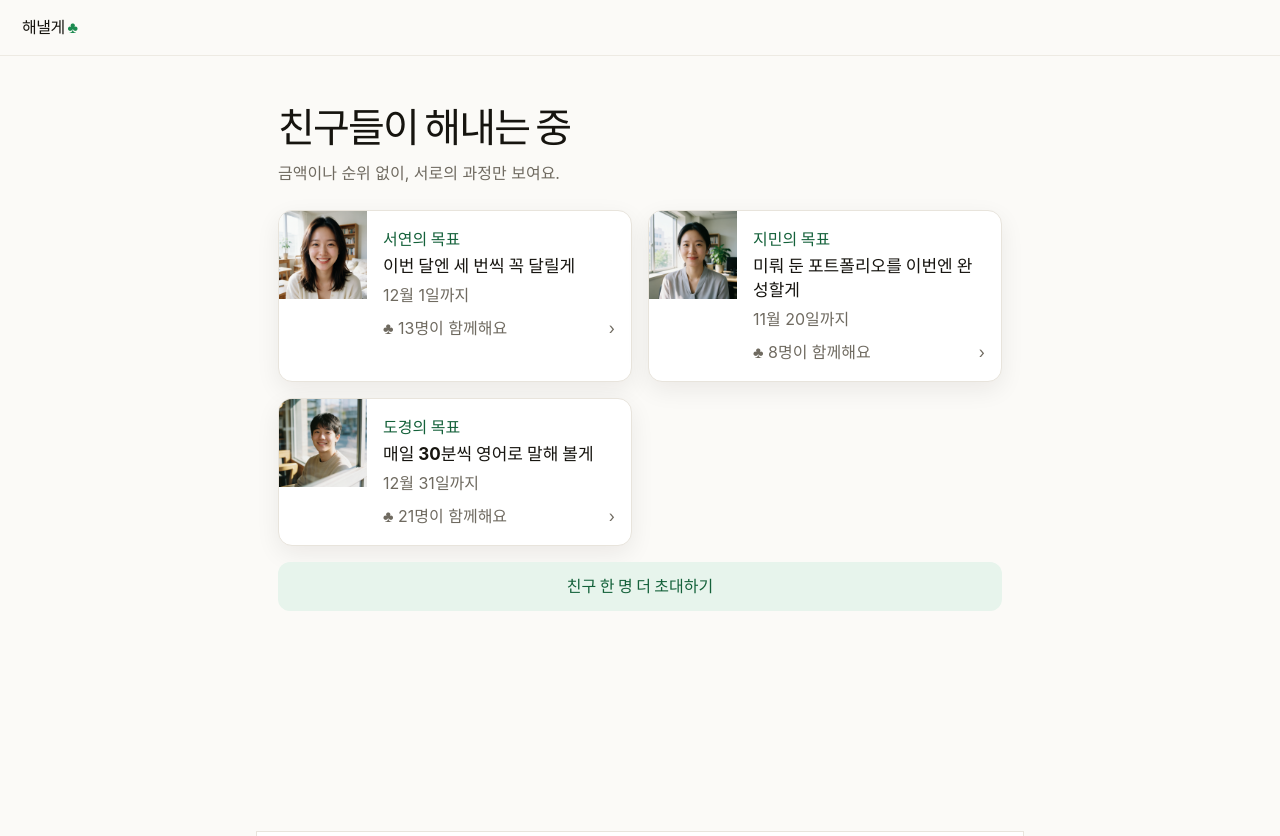
Test: 앱인토스 v0 계약 › TC-AIT-003 친구 목표 조회와 응원 상세 정상 경로를 렌더한다
Click the button that starts with "의 목표".
click(455, 284)  # box [279,211,631,357]
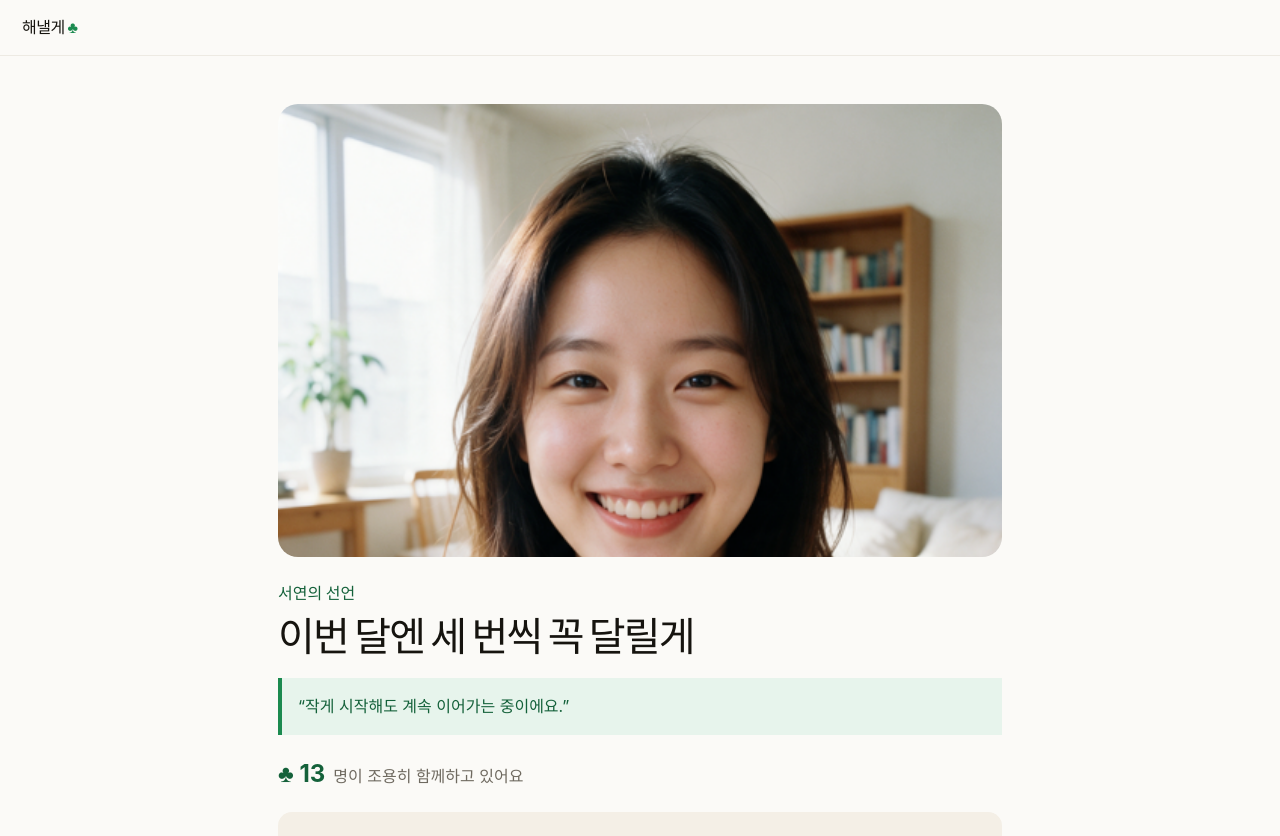
Expected: the text "명이 조용히 함께하고 있어요" is shown, [333,764,523,789]
